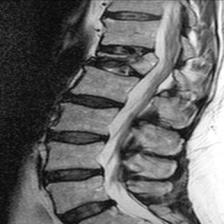pathological-fracture: (11, 0, 224, 224)
